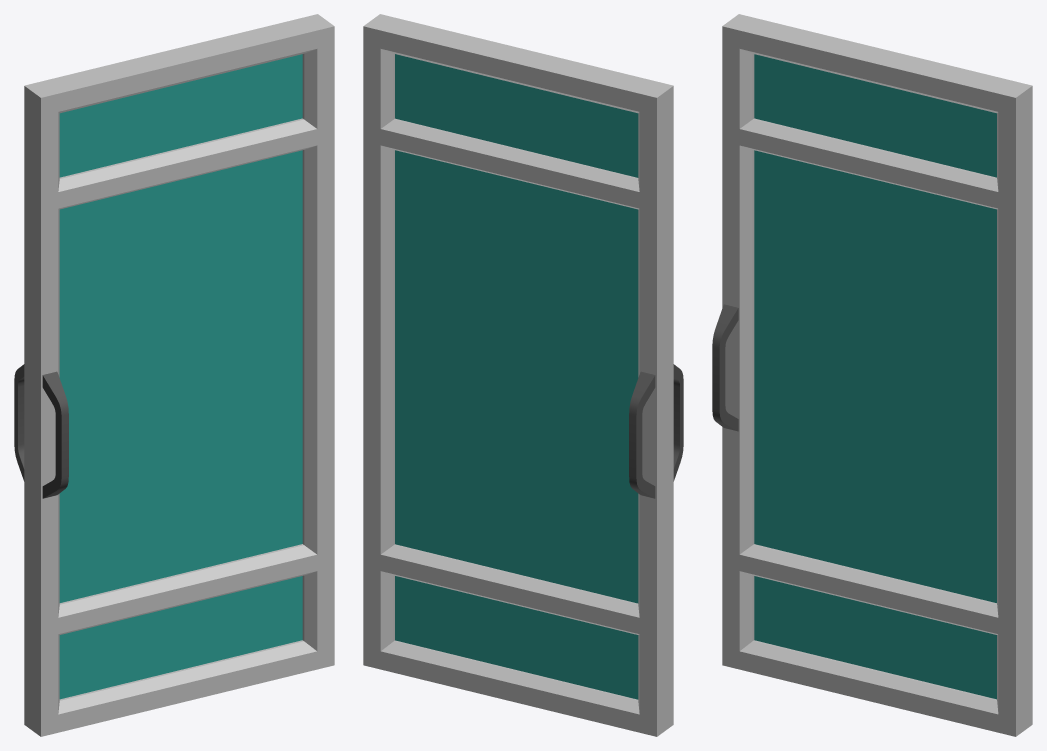
Rendered from GlassDoor.FBX.
3 renders of one model, left to right at view 1: azimuth 30°, elevation 25°; view 2: azimuth 150°, elevation 25°; view 3: azimuth 330°, elevation 25°, orthographic.
Parts seen in each view (by area): view 1: GlassDoor, Handle; view 2: GlassDoor, Handle; view 3: GlassDoor, Handle.
Boxes of the visible parts, box(x1,y1,x2,y2) form: GlassDoor: box(24, 14, 334, 736); Handle: box(14, 364, 68, 498); GlassDoor: box(363, 14, 673, 736); Handle: box(629, 364, 683, 498); GlassDoor: box(722, 14, 1032, 736); Handle: box(712, 304, 738, 431).
Bounding box in the file's own units: 101 × 210 × 28.12.
